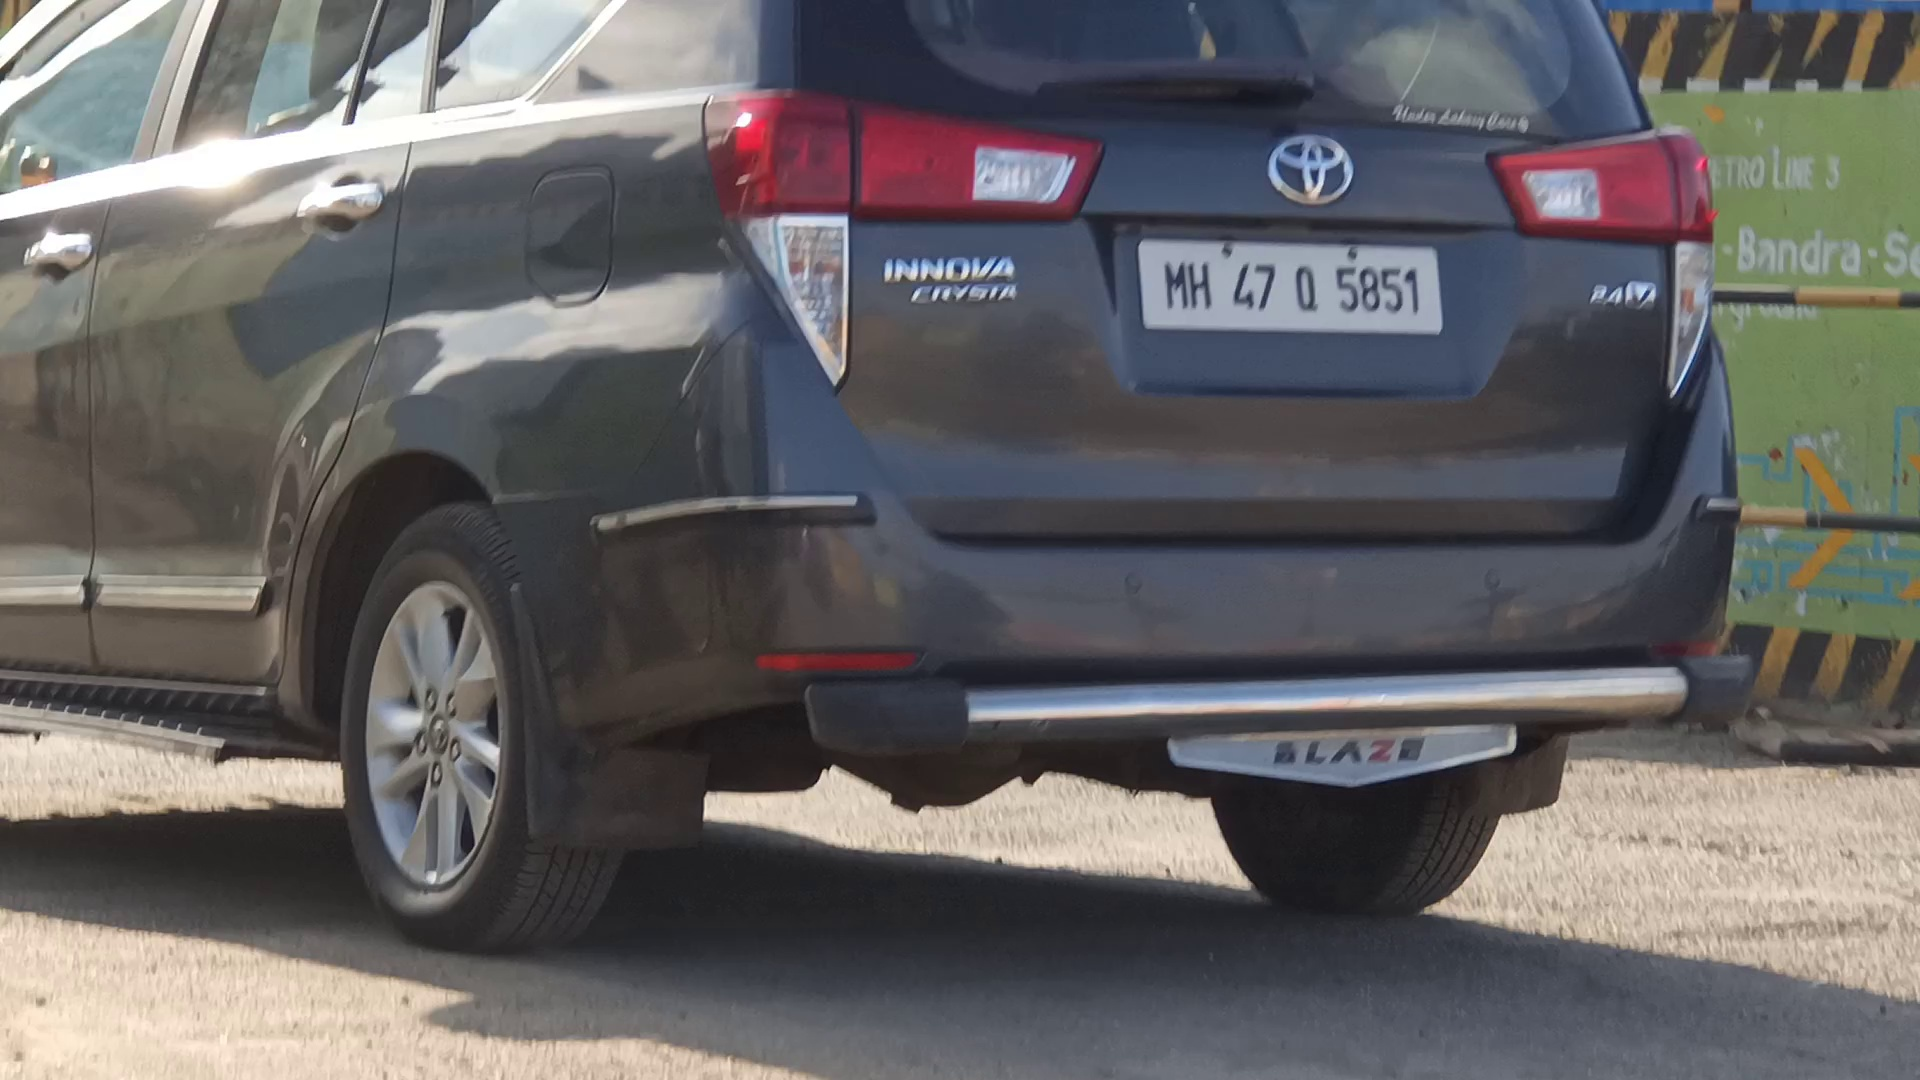MH4705851: (1133, 238, 1448, 340)
